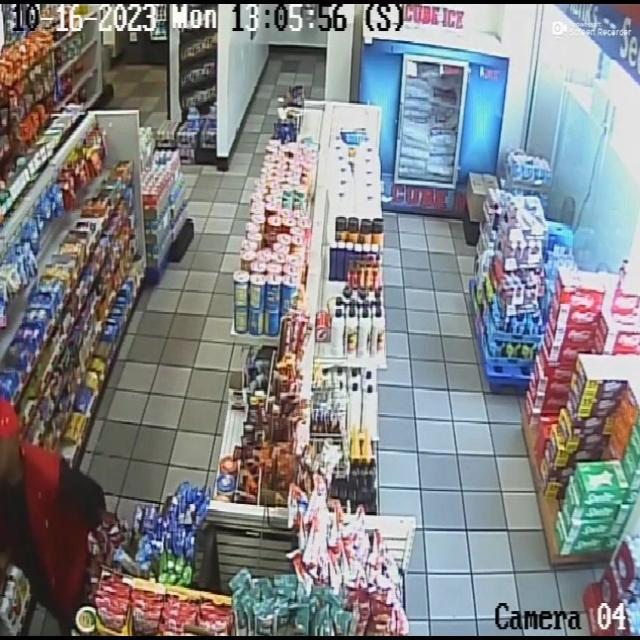Normal: (0, 369, 116, 636)
